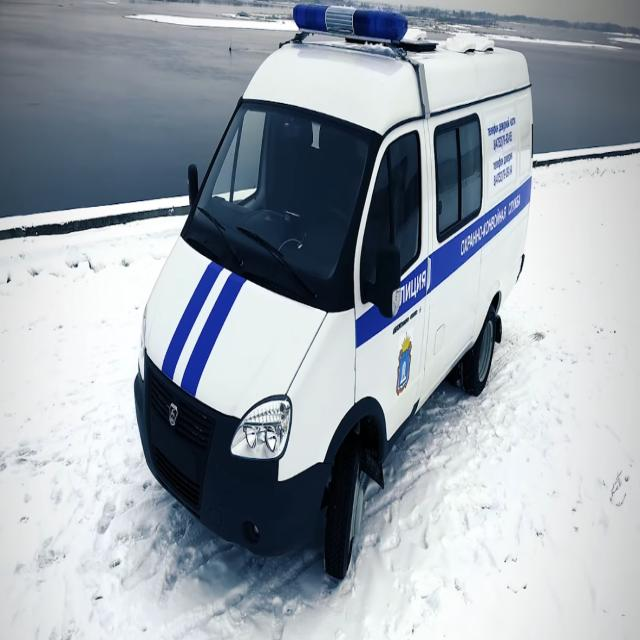police car: (131, 1, 539, 592)
